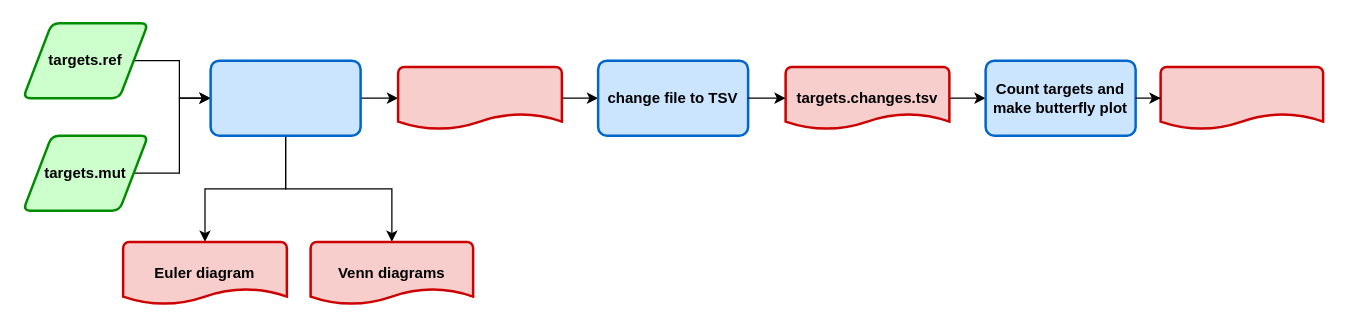
Image size: 1345x326. Some labels were removed from this diagram. The centre of each missing label's shape, as x and y in pixels:
butterfly plot: the point at 1241,97
Compare mIRNA targets: the point at 285,97
targets.changes: the point at 479,97
